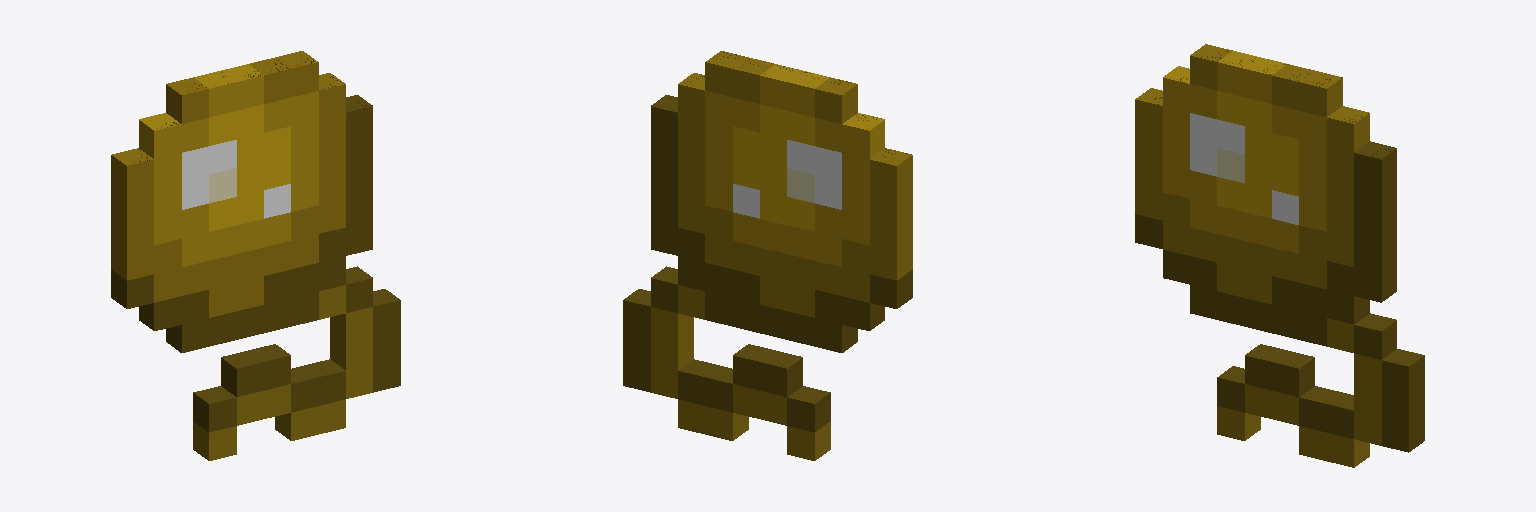
The picture shows the model from 3 angles: view 1: azimuth 30°, elevation 25°; view 2: azimuth 150°, elevation 25°; view 3: azimuth 330°, elevation 25°; orthographic projection.
Size of the model in its own units: 0.625 by 0.8125 by 0.0625.
1 materials, 1 textured.